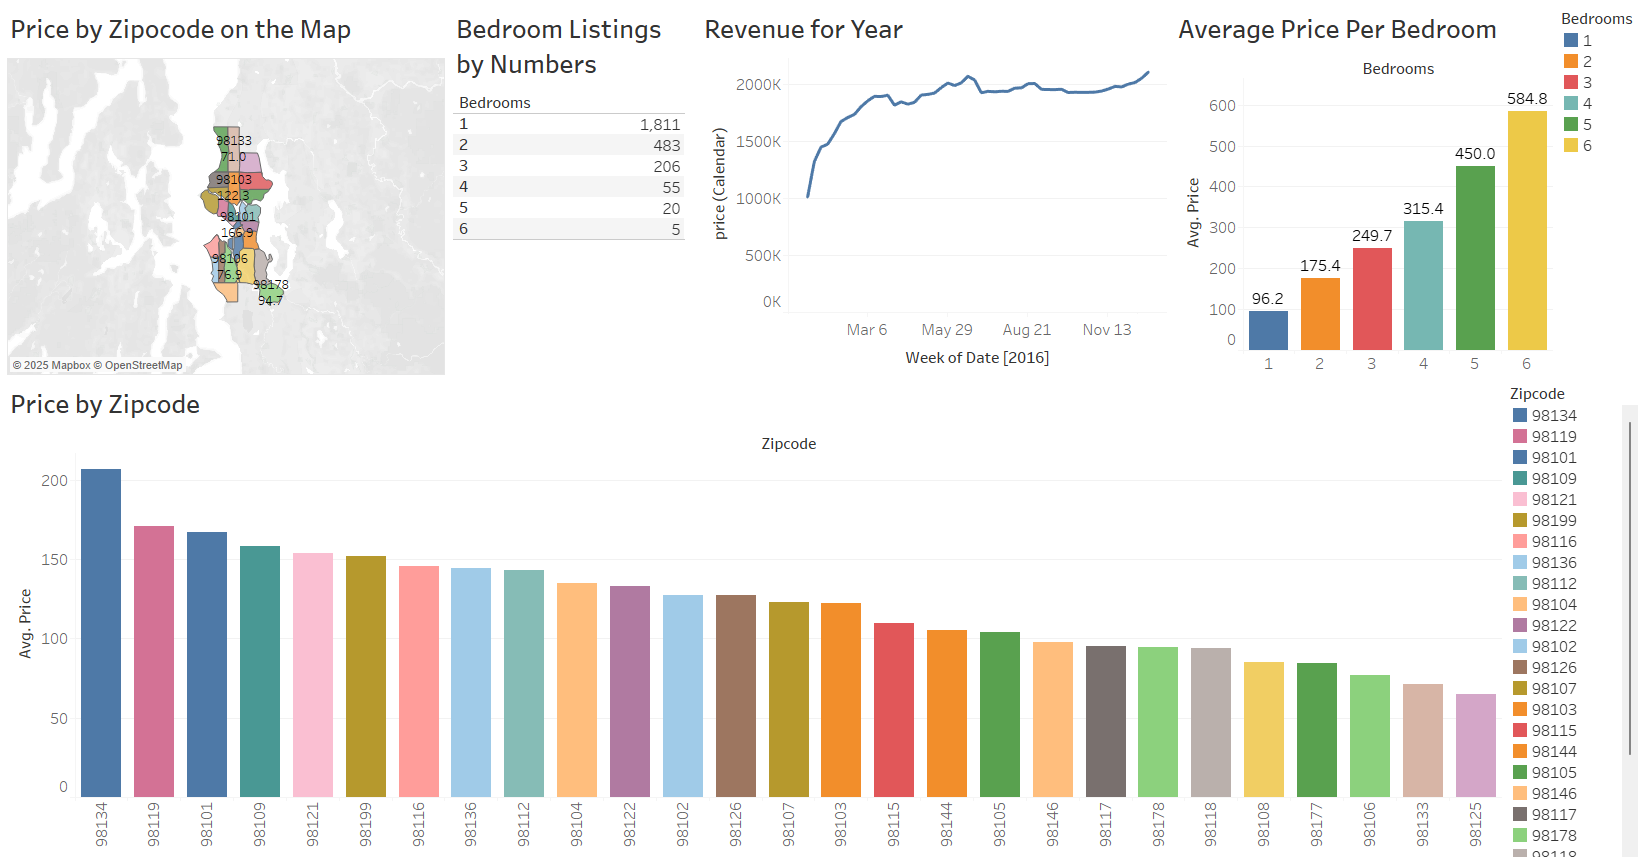

This screenshot's page, from the dashboard's own definition file:
{"tool":"tableau","page":{"name":"Dashboard 1","canvas":[1000,1000],"units":"permille","ordinal":0},"visuals":[{"type":"worksheet","title":"Sheet 2","mark":"Multipolygon","box":[4.8,9.2,269,429.6]},{"type":"worksheet","title":"Sheet 5","mark":"Automatic","rows":["bedrooms"],"box":[273.8,9.2,149.8,429.6]},{"type":"worksheet","title":"Sheet 3","mark":"Automatic","rows":["price (Calendar)"],"cols":["date"],"box":[423.7,9.2,285.8,429.6]},{"type":"worksheet","title":"Sheet 4","mark":"Automatic","rows":["price"],"cols":["bedrooms"],"box":[709.5,9.2,233.2,429.6]},{"type":"legend","title":"Sheet 4","param":"[federated.1fi8ztz0gz00g010kd7bz0xfi3bf].[none:bedrooms:ok]","box":[942.7,9.2,52.5,429.6]},{"type":"worksheet","title":"Sheet 1","mark":"Automatic","rows":["price"],"cols":["zipcode"],"box":[4.8,438.7,907.1,552.1]},{"type":"legend","title":"Sheet 1","param":"[federated.1fi8ztz0gz00g010kd7bz0xfi3bf].[none:zipcode:ok]","box":[911.9,438.7,83.3,552.1]}]}

Visuals, with their boxes on the dashboard's canvas, which has no fixed pixel size, in thousandths of its width and height (x1, y1, x2, y2). These are canvas units, not pixel positions in the 1641x866 screenshot, which may show the page scaled, cropped or inside an application window:
"Sheet 2" worksheet (Multipolygon marks): bbox=(5, 9, 274, 439)
"Sheet 5" worksheet: bbox=(274, 9, 424, 439)
"Sheet 3" worksheet: bbox=(424, 9, 710, 439)
"Sheet 4" worksheet: bbox=(710, 9, 943, 439)
"Sheet 4" legend: bbox=(943, 9, 995, 439)
"Sheet 1" worksheet: bbox=(5, 439, 912, 991)
"Sheet 1" legend: bbox=(912, 439, 995, 991)
